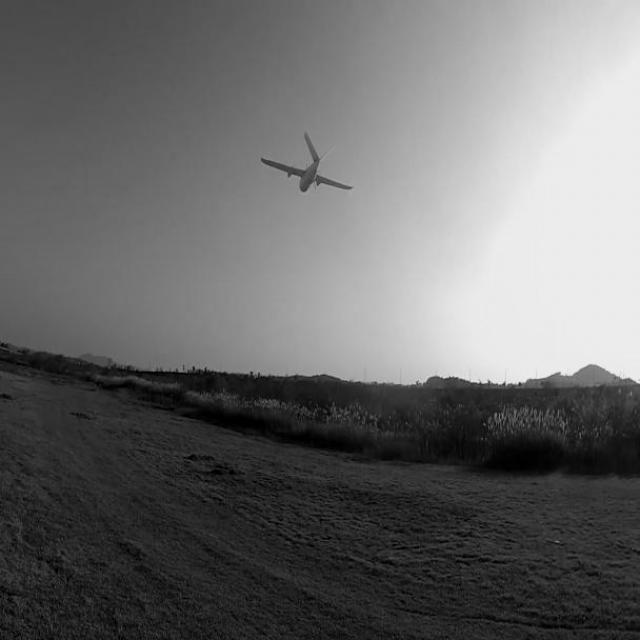iha: (288, 161, 324, 167)
